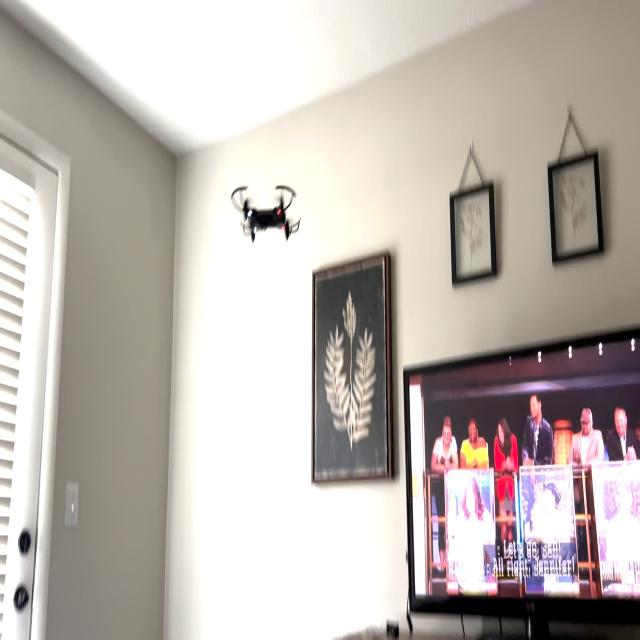drone: (220, 165, 314, 254)
